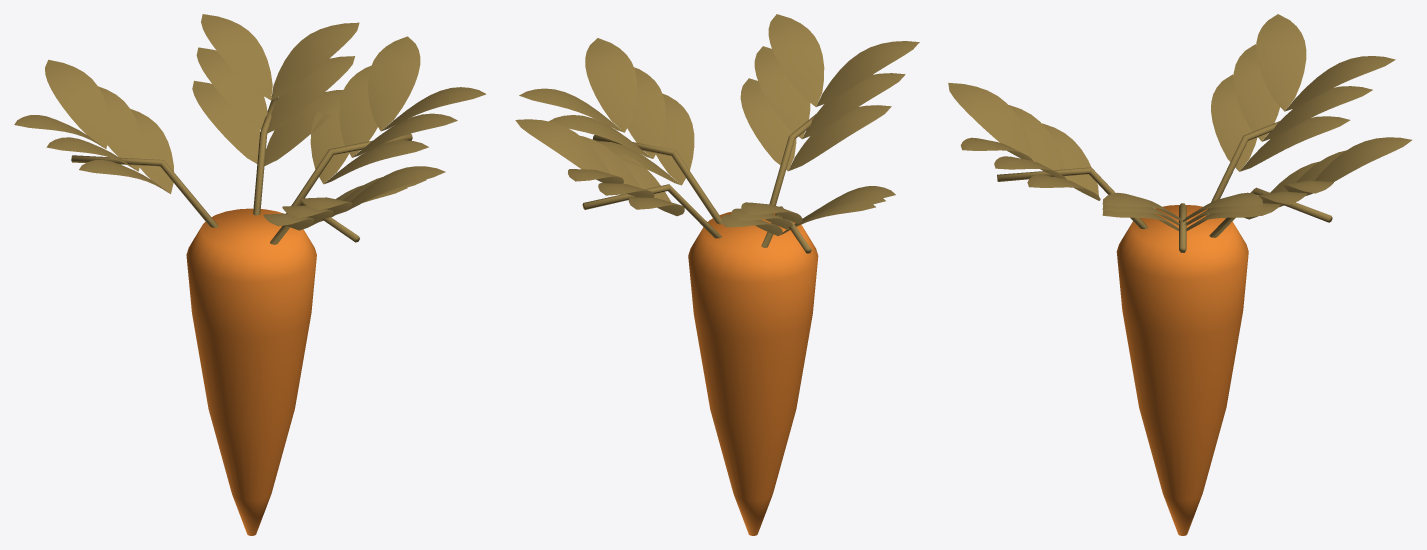
Rendered from crop-carrot-wilted.glb.
3 views of the same model, side by side, from view 1: azimuth 30°, elevation 25°; view 2: azimuth 150°, elevation 25°; view 3: azimuth 270°, elevation 25° (orthographic).
Visible parts, largest first — view 1: crop_carrot_wilted; view 2: crop_carrot_wilted; view 3: crop_carrot_wilted.
Boxes of the visible parts, x1,y1,x2,y2 form: crop_carrot_wilted: (14, 14, 486, 535); crop_carrot_wilted: (515, 14, 919, 535); crop_carrot_wilted: (948, 14, 1411, 535).
Size of the model in its own units: 0.485 by 0.5053 by 0.4995.
